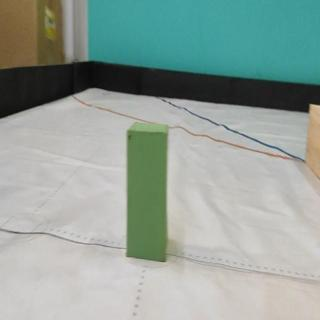greenbox: (127, 123, 167, 262)
